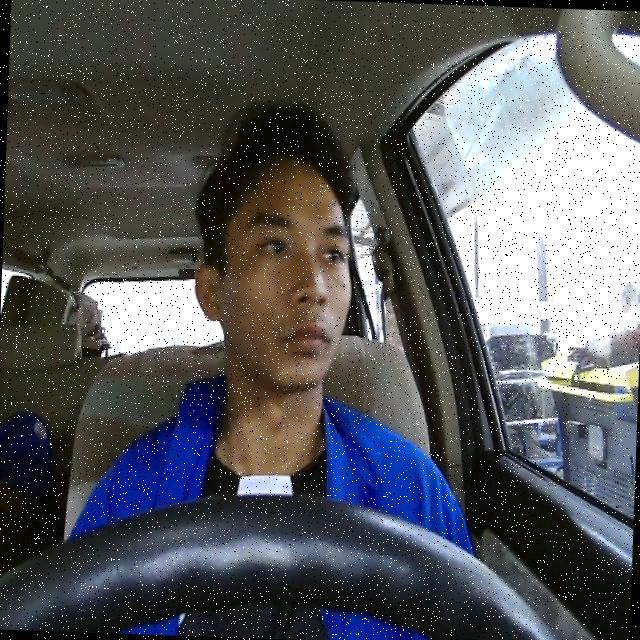seeing_right: (186, 147, 356, 392)
